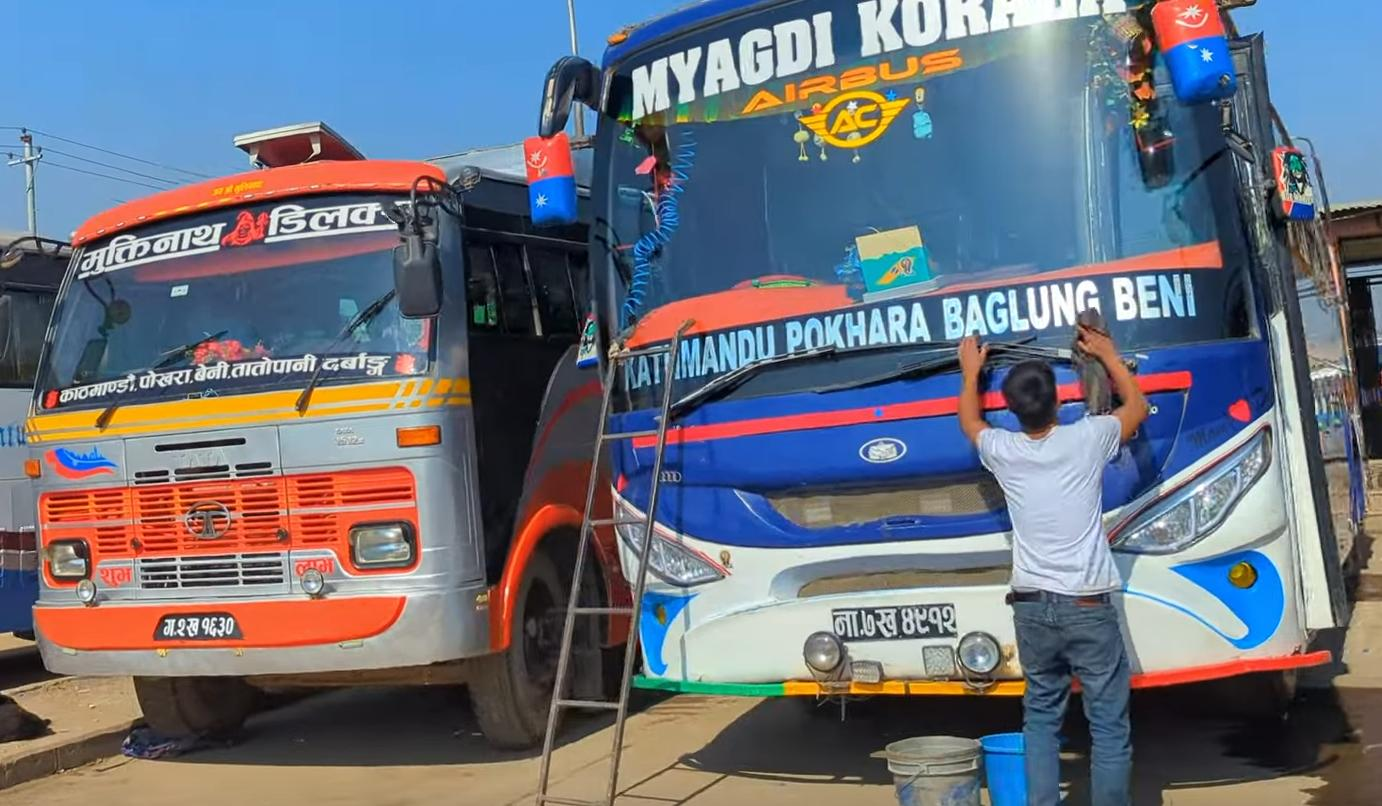bus: (526, 0, 1382, 731), (8, 98, 616, 766)
